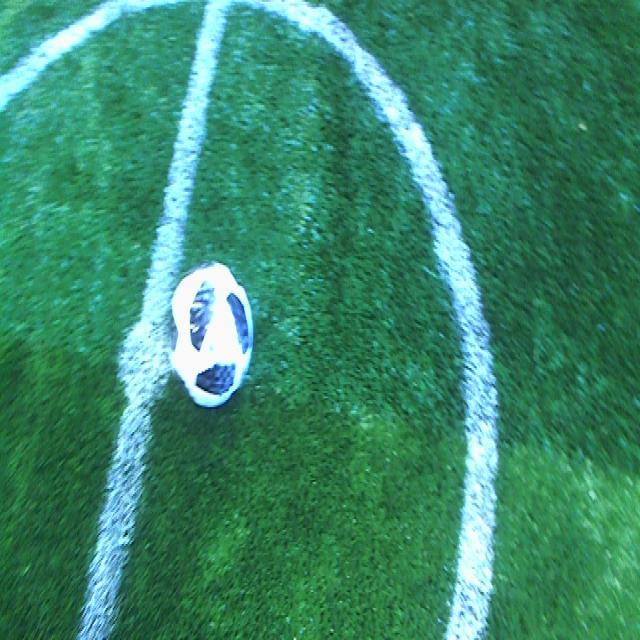ball: (168, 261, 254, 411)
